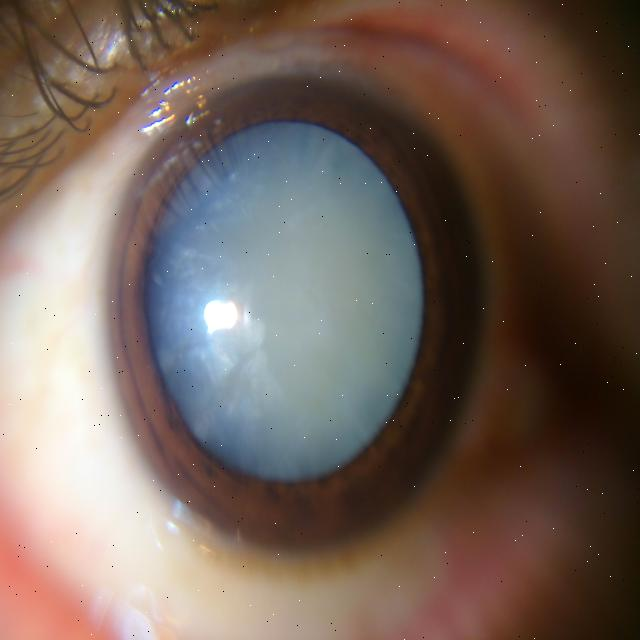Cataract: (109, 56, 495, 542)
